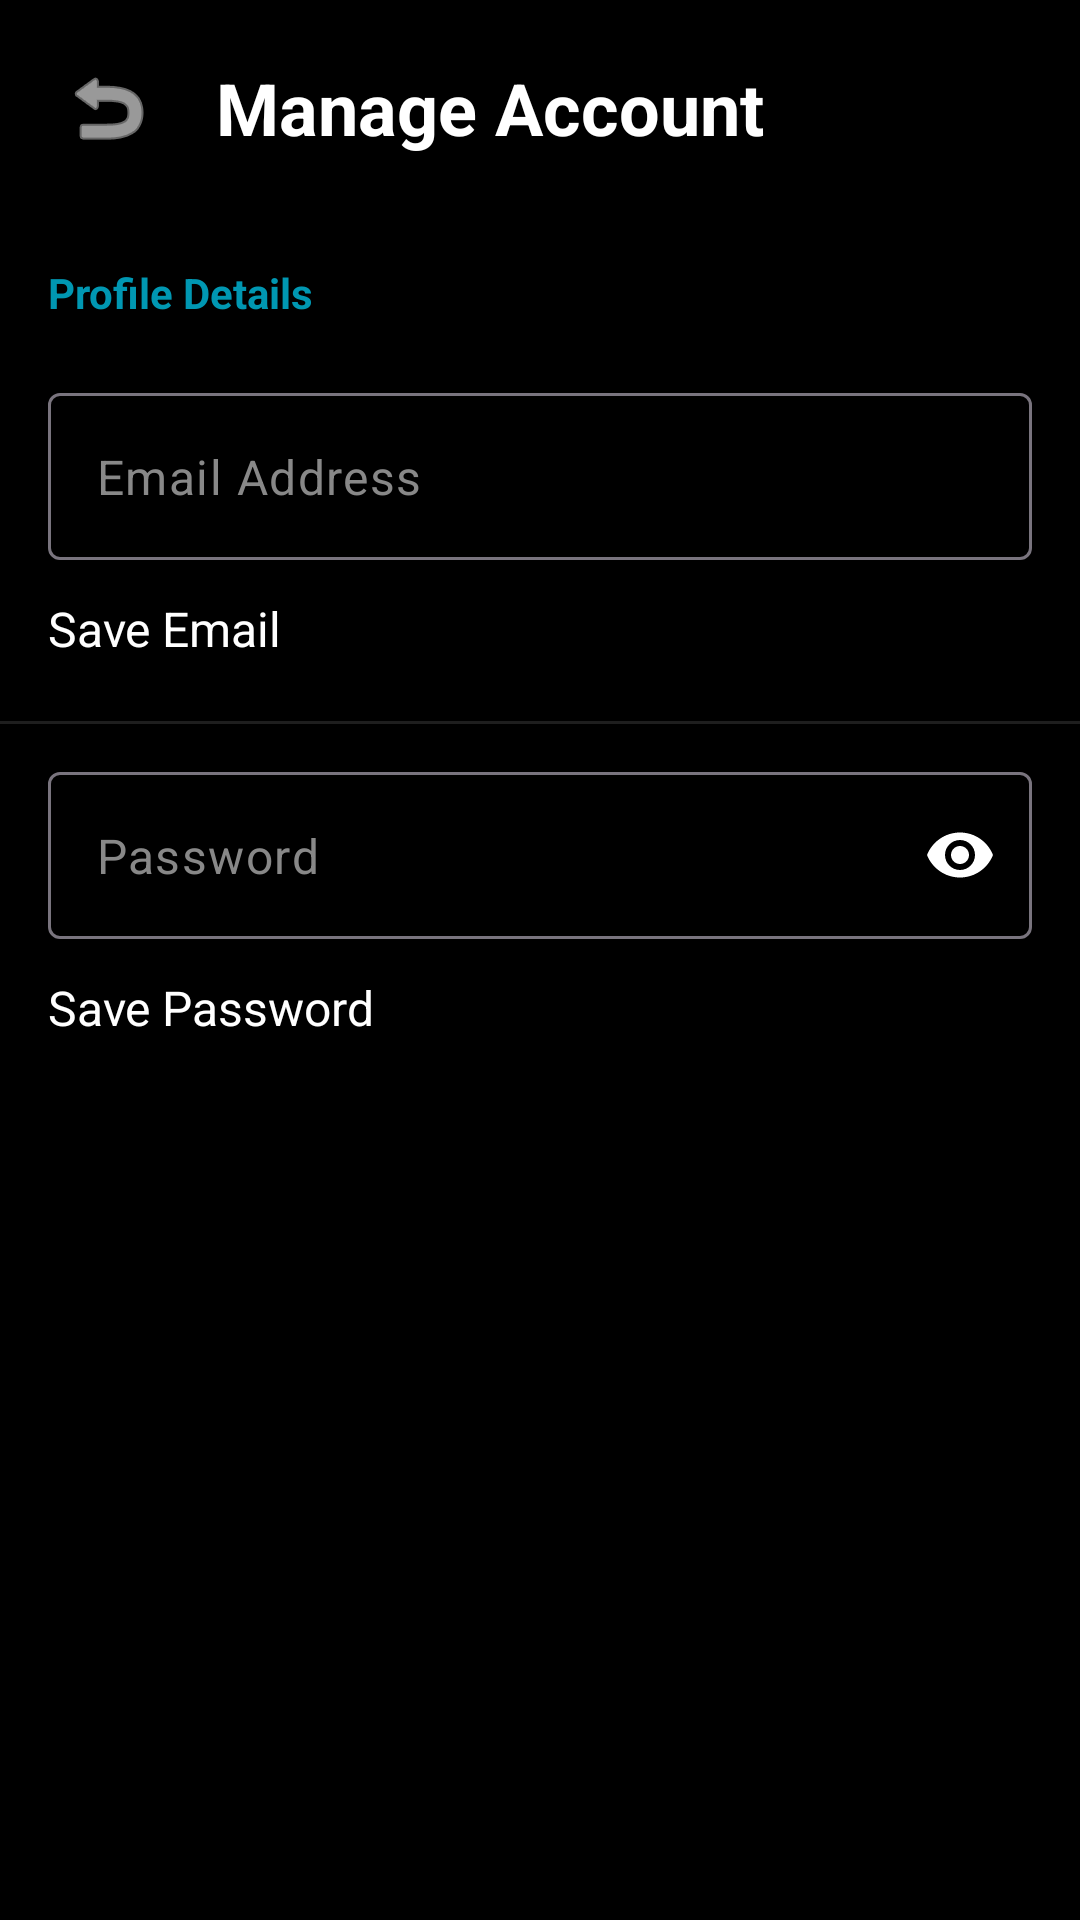

Named icons in this screenshot (1080px×1920px) and their bounding boxes, [left=x1, top=y1, right=x2, bottom=y2]:
revert: [left=75, top=77, right=144, bottom=140]
